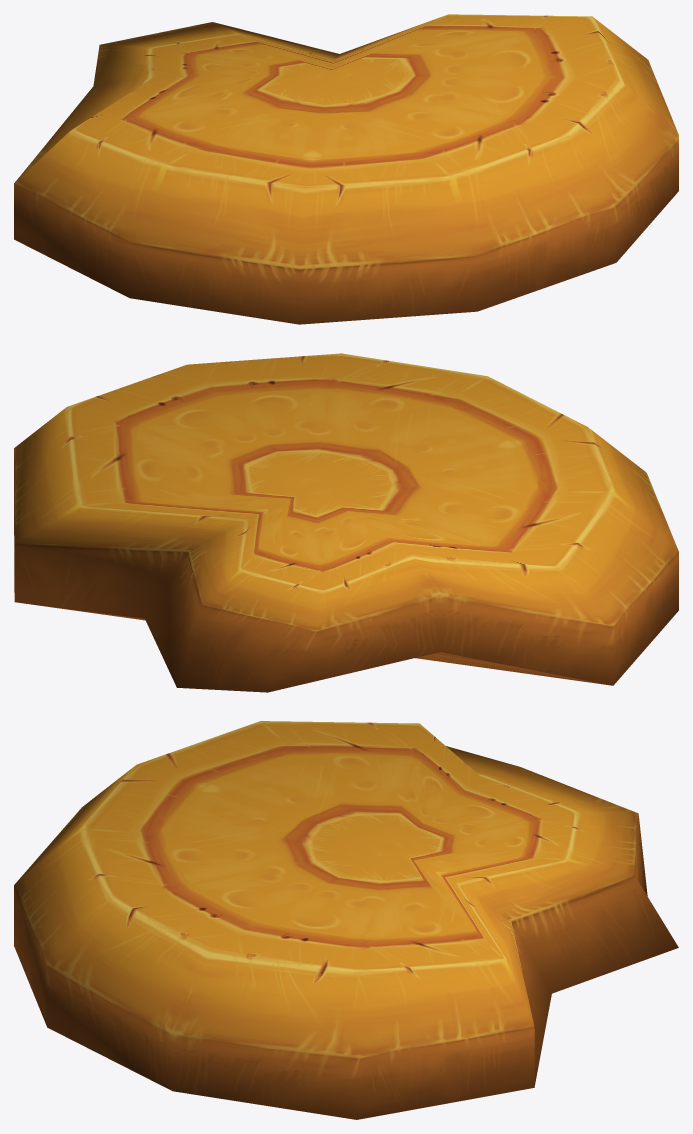
File: TankLid.fbx
3 views of the same model, one above another, from view 1: azimuth 30°, elevation 25°; view 2: azimuth 150°, elevation 25°; view 3: azimuth 270°, elevation 25° (orthographic). The views are drawn at different scales.
Visible parts, largest first — view 1: TankLid; view 2: TankLid; view 3: TankLid.
Part boxes in pixels (<box>): TankLid: <box>14,14,678,324</box>; TankLid: <box>14,353,678,692</box>; TankLid: <box>14,721,678,1119</box>.
Bounding box in the file's own units: 6.45 × 1.24 × 5.68.
